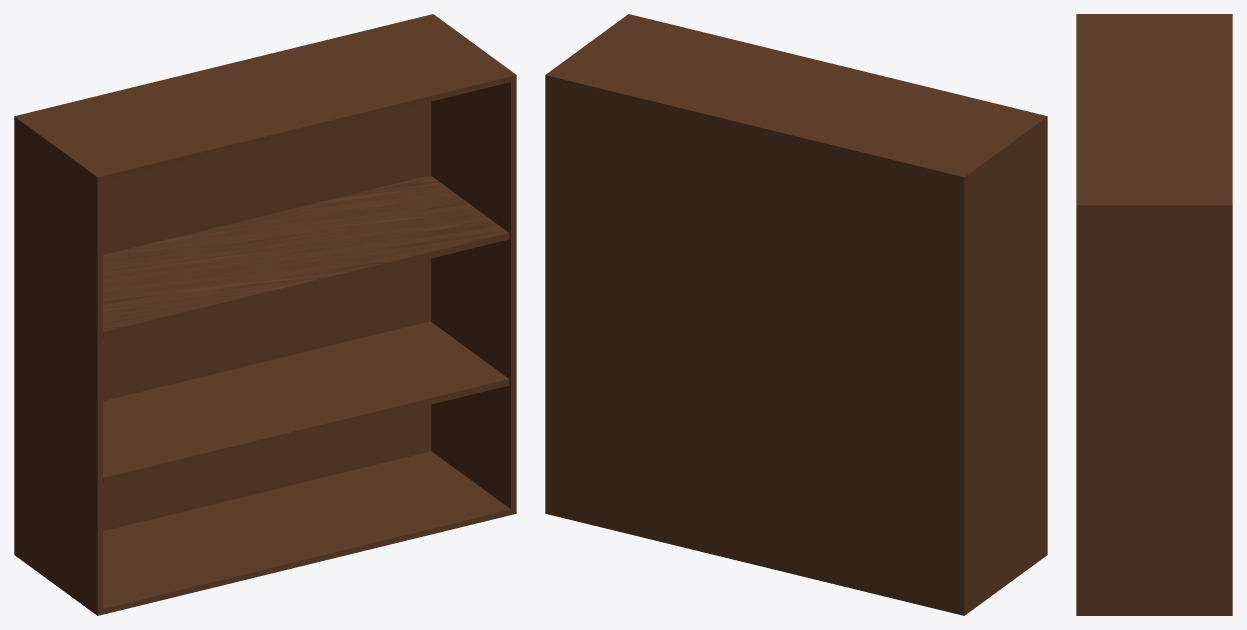
Rendered from Shelf.fbx.
3 views of the same model, side by side, from view 1: azimuth 30°, elevation 25°; view 2: azimuth 150°, elevation 25°; view 3: azimuth 270°, elevation 25° (orthographic). The views are drawn at different scales.
Visible parts, largest first — view 1: Shelf; view 2: Shelf; view 3: Shelf.
Boxes of the visible parts, x1,y1,x2,y2 form: Shelf: [14, 14, 516, 615]; Shelf: [545, 14, 1047, 615]; Shelf: [1076, 14, 1232, 615].
Bounding box in the file's own units: 200 × 200 × 68.96.
Materials: 1 (1 with a texture image).
